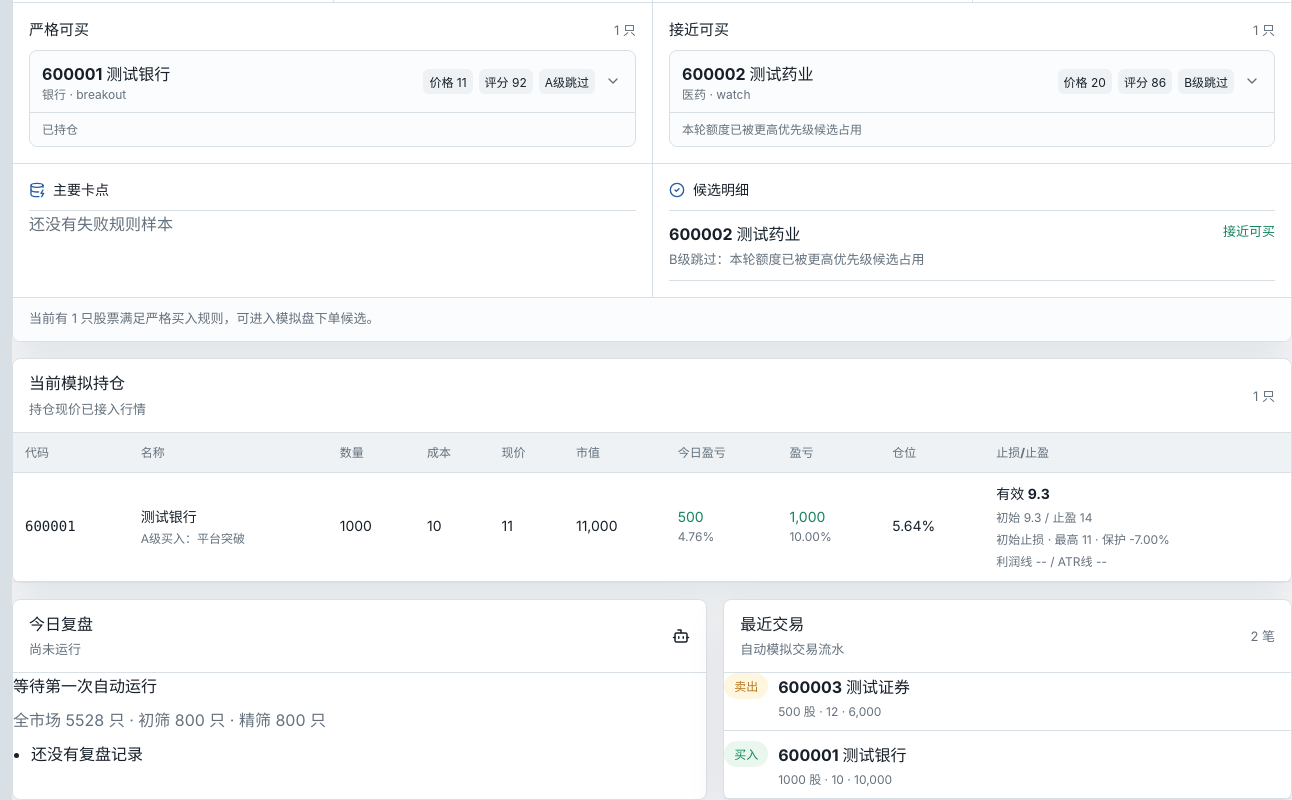
Test: PaperTradingPage › expands a holding to show chart area and symbol trade ledger
The image size is (1292, 800).
(page scrolled)
Click the row with test id "paper-holding-row-600001" at coordinates (652, 527), box x1=13 y1=472 x2=1291 y2=581
(page scrolled)
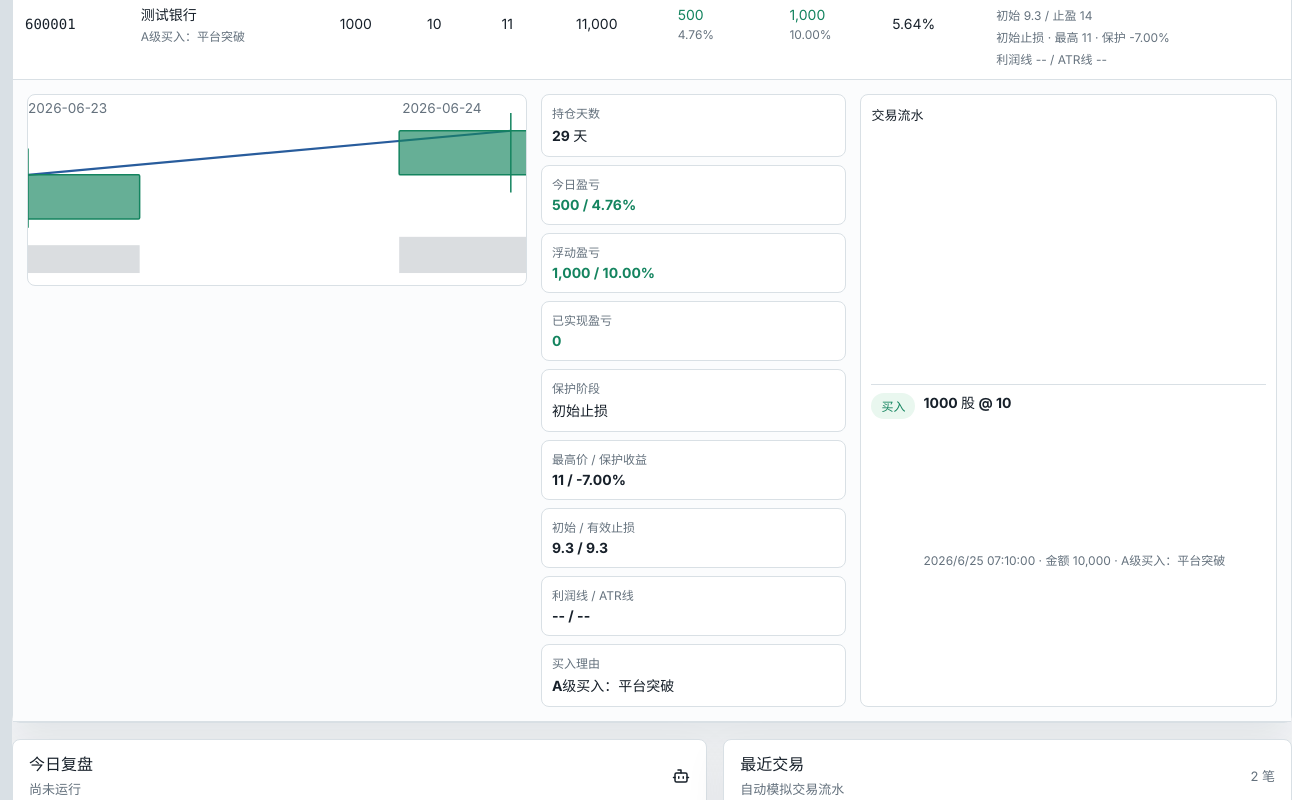
Expected: the row with test id "paper-holding-detail-600001" is shown
Expected: the picture with test id "mini-kline-600001" is shown, x1=27 y1=94 x2=527 y2=286
Expected: the row with test id "paper-holding-detail-600001" shows "保护阶段", x1=552 y1=381 x2=600 y2=396
